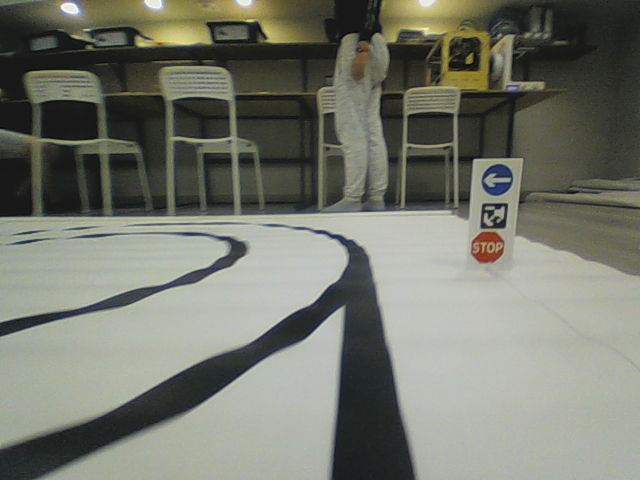Stop: (470, 230, 505, 265)
